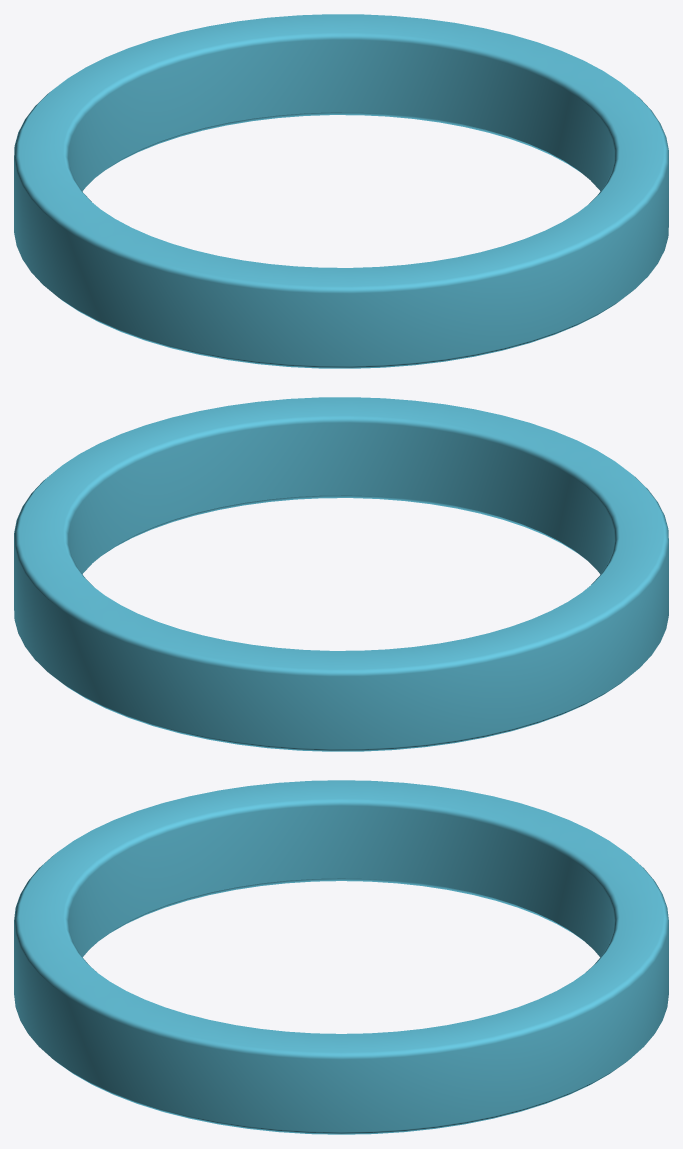
3 views of the same model, one above another, from view 1: azimuth 30°, elevation 25°; view 2: azimuth 150°, elevation 25°; view 3: azimuth 270°, elevation 25° (orthographic).
Parts seen in each view (by area): view 1: seal_body; view 2: seal_body; view 3: seal_body.
Boxes of the visible parts, box(x1,y1,x2,y2) form: seal_body: box(14, 14, 668, 368); seal_body: box(14, 397, 668, 751); seal_body: box(14, 780, 668, 1134).
Bounding box in the file's own units: 0.0571 × 0.00793 × 0.0571.
